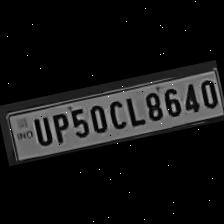0: (84, 100, 110, 136), (196, 74, 220, 108)
4: (176, 78, 200, 114)
5: (64, 103, 90, 140)
6: (158, 84, 182, 120)
8: (138, 88, 164, 124)
C: (104, 96, 128, 131)
L: (120, 92, 144, 128)
P: (46, 107, 72, 144)
U: (26, 111, 54, 148)
